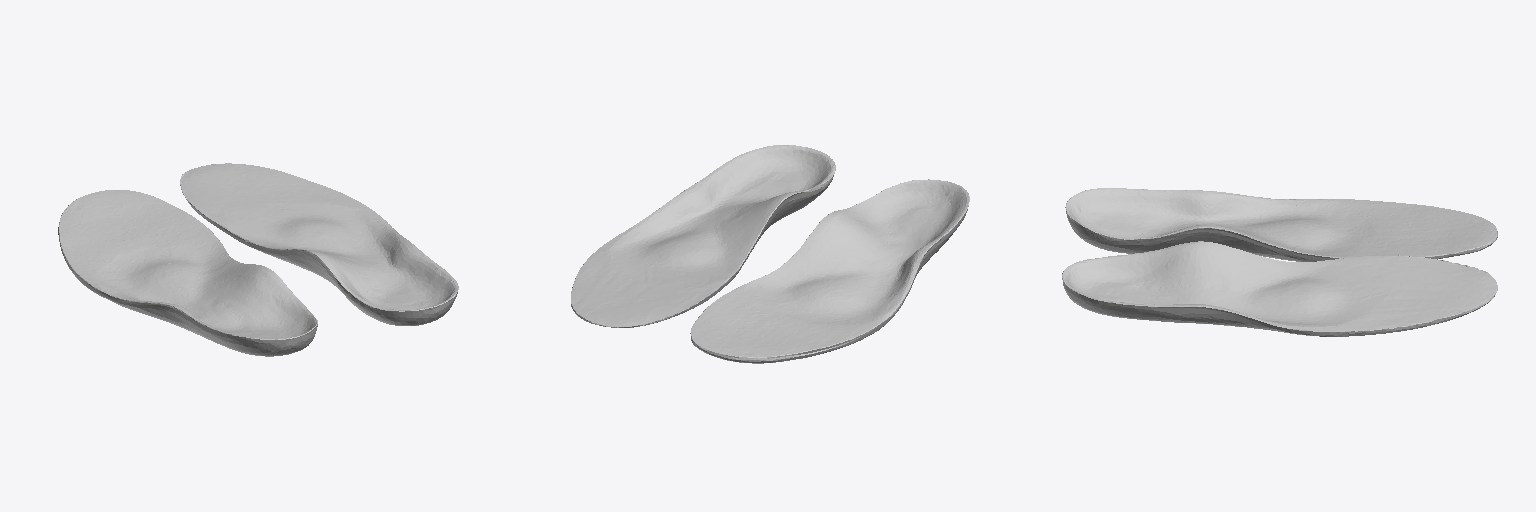
The model's file is pair.obj.
3 renders of one model, left to right at view 1: azimuth 30°, elevation 25°; view 2: azimuth 150°, elevation 25°; view 3: azimuth 270°, elevation 25°, orthographic.
Parts seen in each view (by area): view 1: 왼쪽-갈색, 오른쪽-갈색; view 2: 왼쪽-갈색, 오른쪽-갈색; view 3: 오른쪽-갈색, 왼쪽-갈색.
Part boxes in pixels (x1,y1,x2,y2): 왼쪽-갈색: (58,190,317,356); 오른쪽-갈색: (180,163,458,325); 왼쪽-갈색: (690,179,969,363); 오른쪽-갈색: (571,145,835,327); 오른쪽-갈색: (1062,241,1497,336); 왼쪽-갈색: (1065,188,1497,261).
Size of the model in its own units: 3.76 by 0.6296 by 5.01.